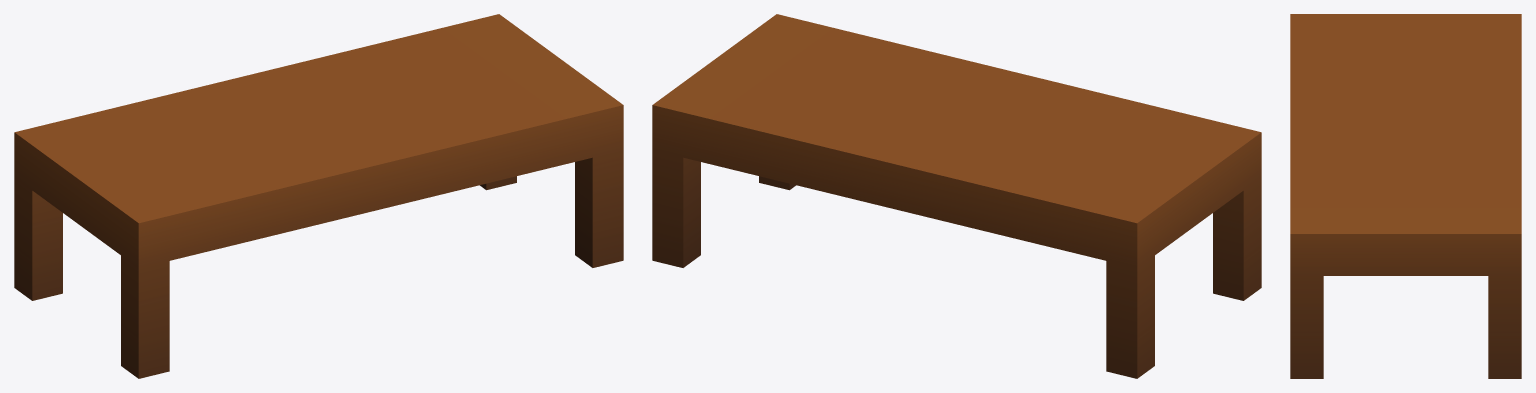
Rendered from Table_Long_spruce.fbx.
3 views of the same model, side by side, from view 1: azimuth 30°, elevation 25°; view 2: azimuth 150°, elevation 25°; view 3: azimuth 270°, elevation 25° (orthographic). The views are drawn at different scales.
Visible parts, largest first — view 1: Table_Long.spruce; view 2: Table_Long.spruce; view 3: Table_Long.spruce.
Part boxes in pixels (bbox=[...]): Table_Long.spruce: bbox=[14, 14, 623, 378]; Table_Long.spruce: bbox=[652, 14, 1261, 378]; Table_Long.spruce: bbox=[1290, 14, 1521, 378].
Bounding box in the file's own units: 225 × 69.03 × 99.99.
